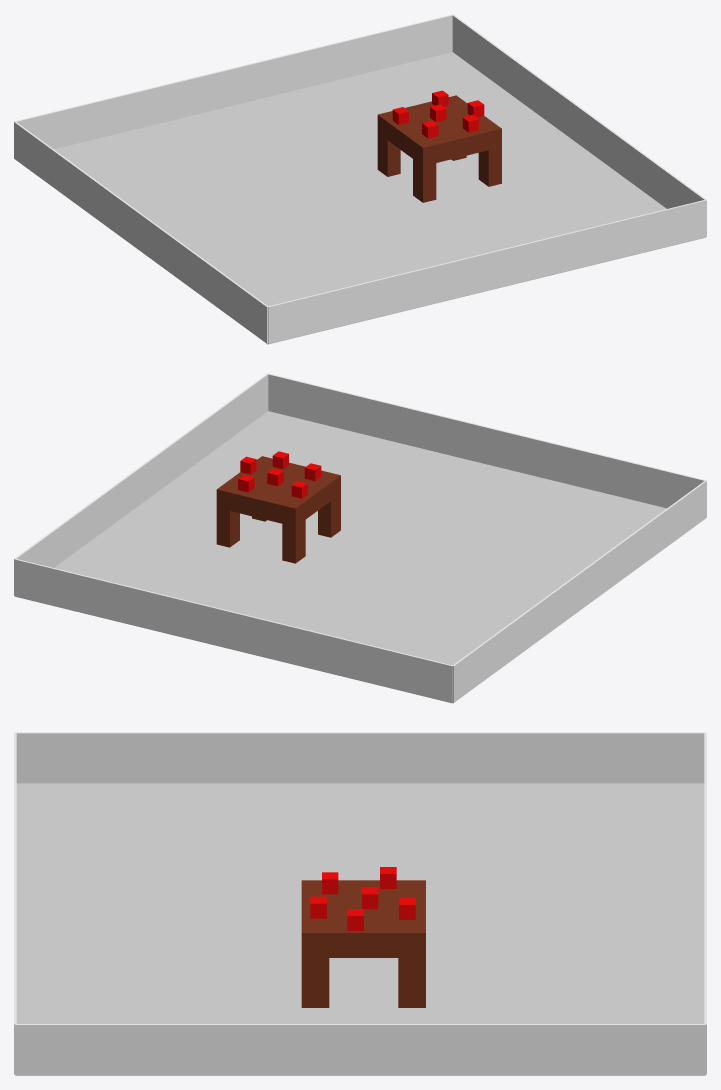
The picture shows the model from 3 angles, top to bottom: view 1: azimuth 30°, elevation 25°; view 2: azimuth 150°, elevation 25°; view 3: azimuth 270°, elevation 25°; orthographic projection. The views are drawn at different scales.
Visible parts, largest first — view 1: _dummylink0_ (×5), base (×4); view 2: _dummylink0_ (×5), base (×4); view 3: _dummylink0_ (×5), base (×3).
Boxes of the visible parts, x1,y1,x2,y2 form: _dummylink0_ (×5): (14, 14, 706, 344); base (×4): (377, 95, 501, 202); _dummylink0_ (×5): (14, 373, 706, 703); base (×4): (216, 456, 340, 563); _dummylink0_ (×5): (14, 732, 706, 1075); base (×3): (301, 880, 425, 1007).
Bounding box in the file's own units: 5.02 × 5.02 × 0.7444.
